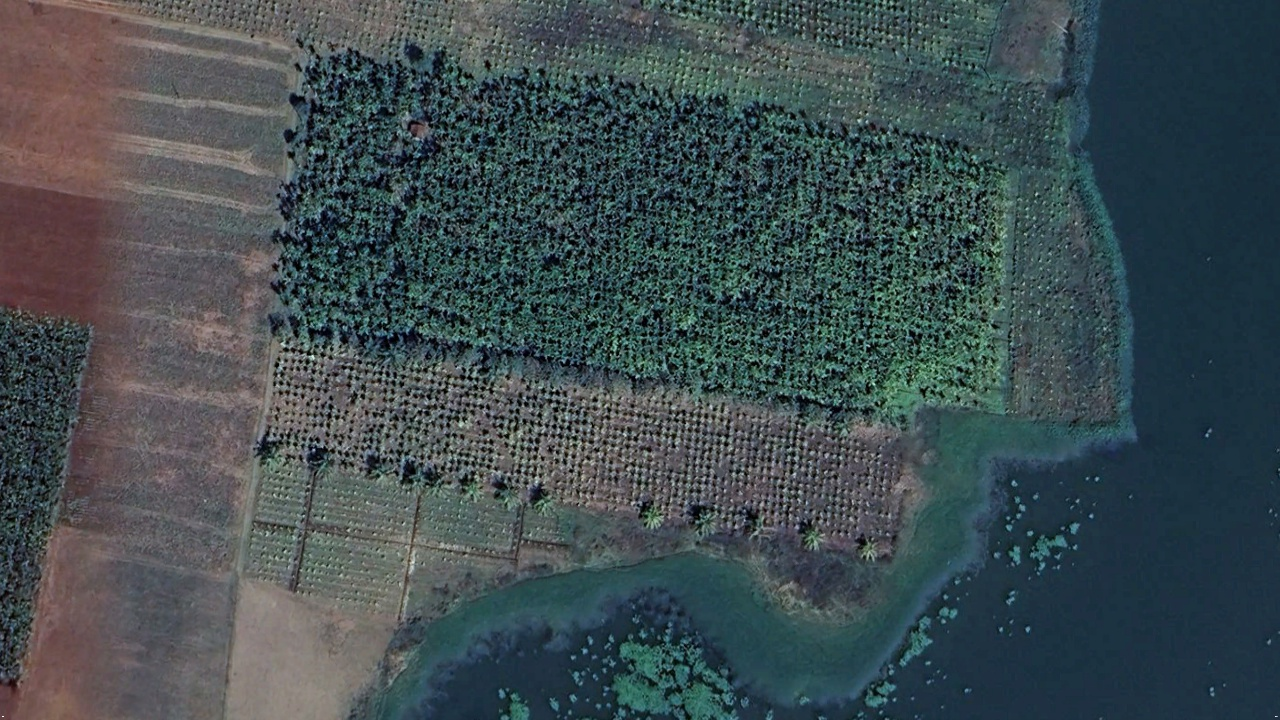arecanut: (278, 34, 1010, 407)
